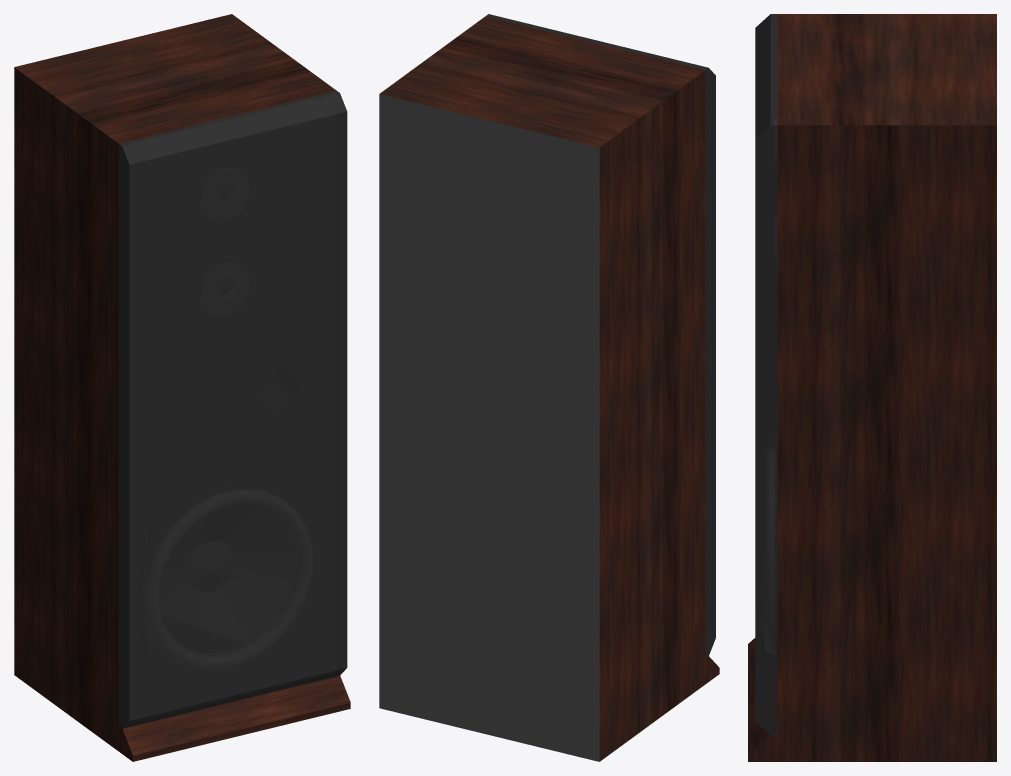
The model's file is speaker.fbx.
The picture shows the model from 3 angles, left to right: view 1: azimuth 30°, elevation 25°; view 2: azimuth 150°, elevation 25°; view 3: azimuth 270°, elevation 25°; orthographic projection. The views are drawn at different scales.
Visible parts, largest first — view 1: polySurface43; view 2: polySurface43; view 3: polySurface43.
Boxes of the visible parts, bbox=[...] form: polySurface43: bbox=[14, 14, 350, 761]; polySurface43: bbox=[379, 14, 719, 761]; polySurface43: bbox=[748, 14, 996, 761].
Size of the model in its own units: 18 by 48 by 17.
Materials: 19 (2 with a texture image).
